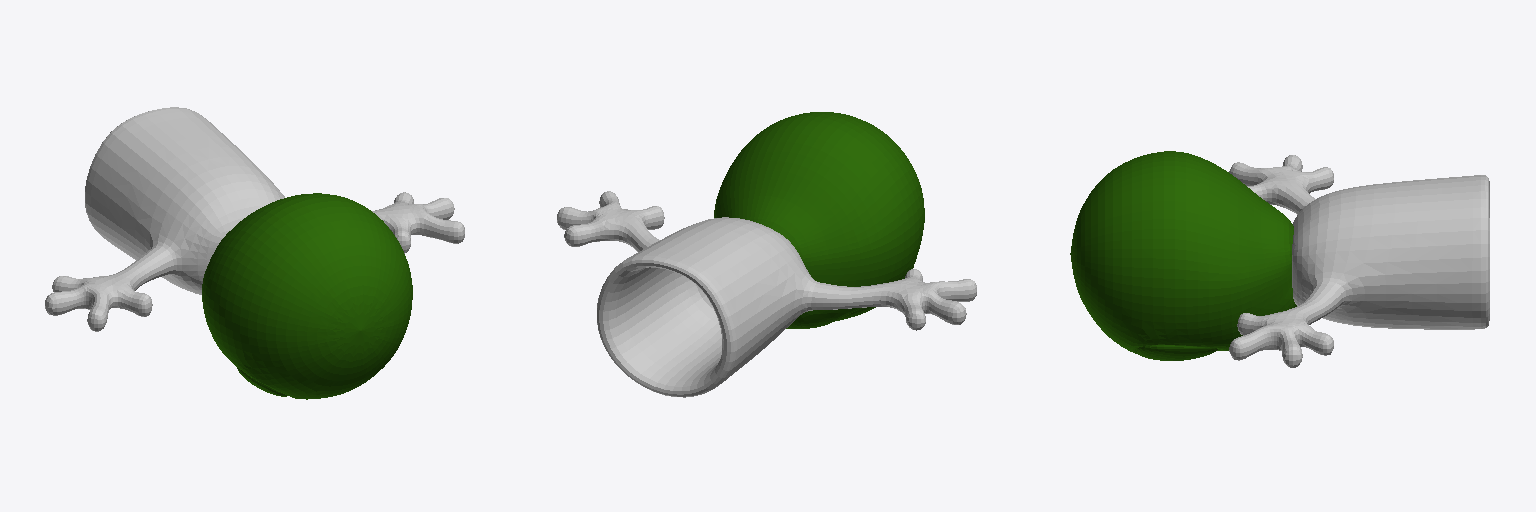
Rendered from Alien.obj.
The picture shows the model from 3 angles: view 1: azimuth 30°, elevation 25°; view 2: azimuth 150°, elevation 25°; view 3: azimuth 270°, elevation 25°; orthographic projection.
Visible parts, largest first — view 1: Object.2, Object.1; view 2: Object.1, Object.2; view 3: Object.2, Object.1.
Boxes of the visible parts, box(x1,y1,x2,y2) form: Object.2: box(202, 193, 412, 399); Object.1: box(45, 107, 464, 331); Object.1: box(557, 191, 976, 397); Object.2: box(714, 112, 924, 328); Object.2: box(1070, 151, 1296, 360); Object.1: box(1229, 155, 1489, 367).
Bounding box in the file's own units: 89.23 × 39.81 × 79.58.